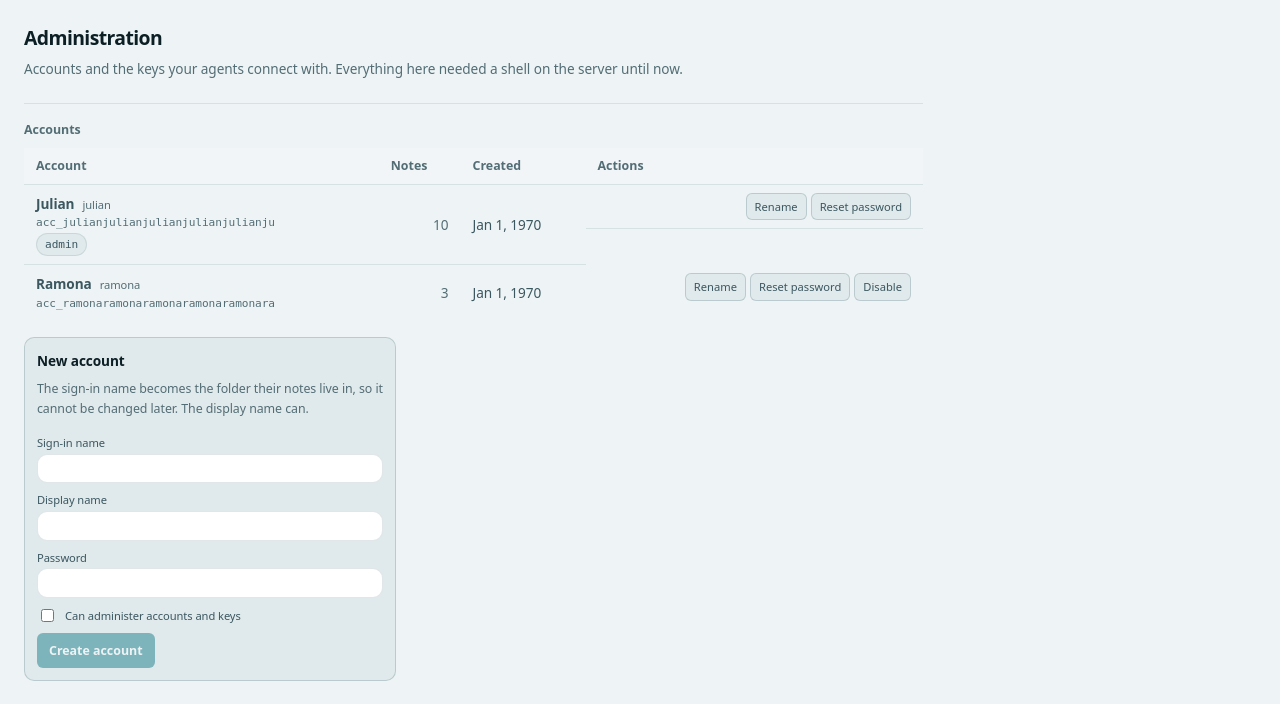
Test: the identifier › is shown beside the account, and is not one of the names
Expected: the text "acc_ramonaramonaramonaramonaramonara" is shown, [36,297,275,310]
Click the button "Rename" in the row of "acc_ramonaramonaramonaramonaramonara": (715, 287) [685,273,746,300]
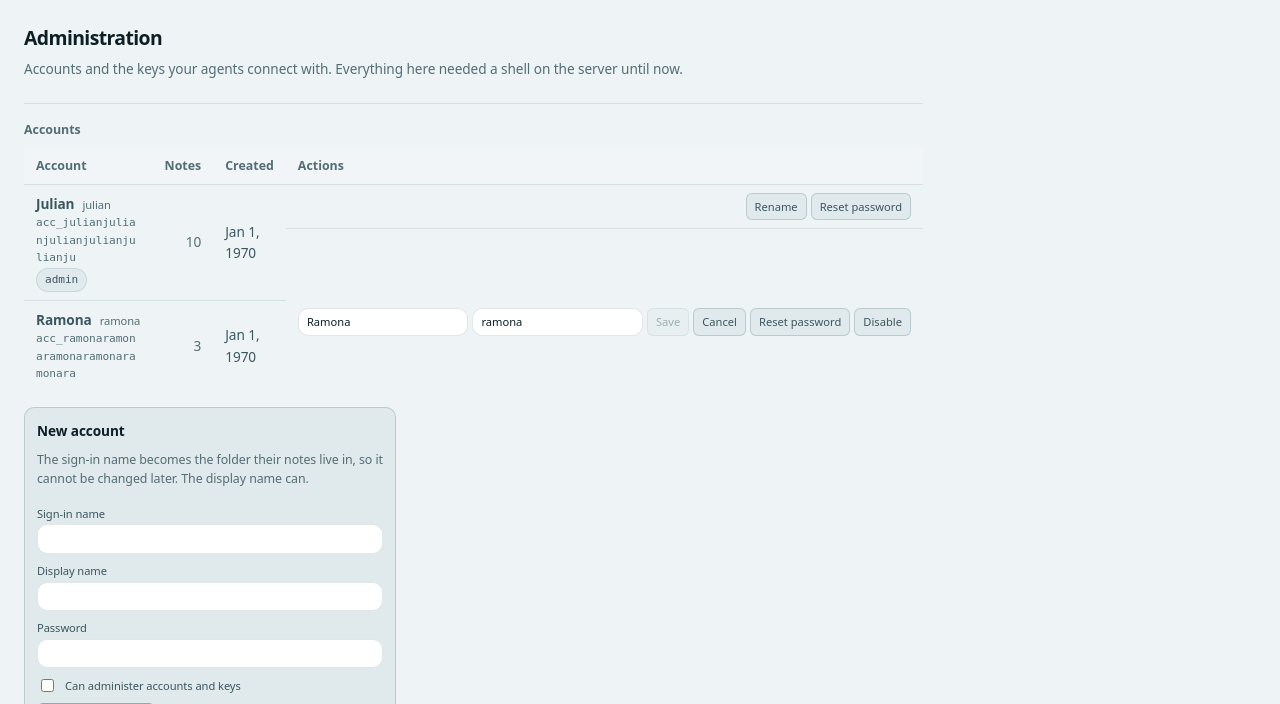
Expected: the field named "Display name for ramona" does not hold "acc_ramonaramonaramonaramonaramonara", [298,308,468,336]
Expected: the field named "Sign-in name for ramona" does not hold "acc_ramonaramonaramonaramonaramonara", [472,308,643,336]
